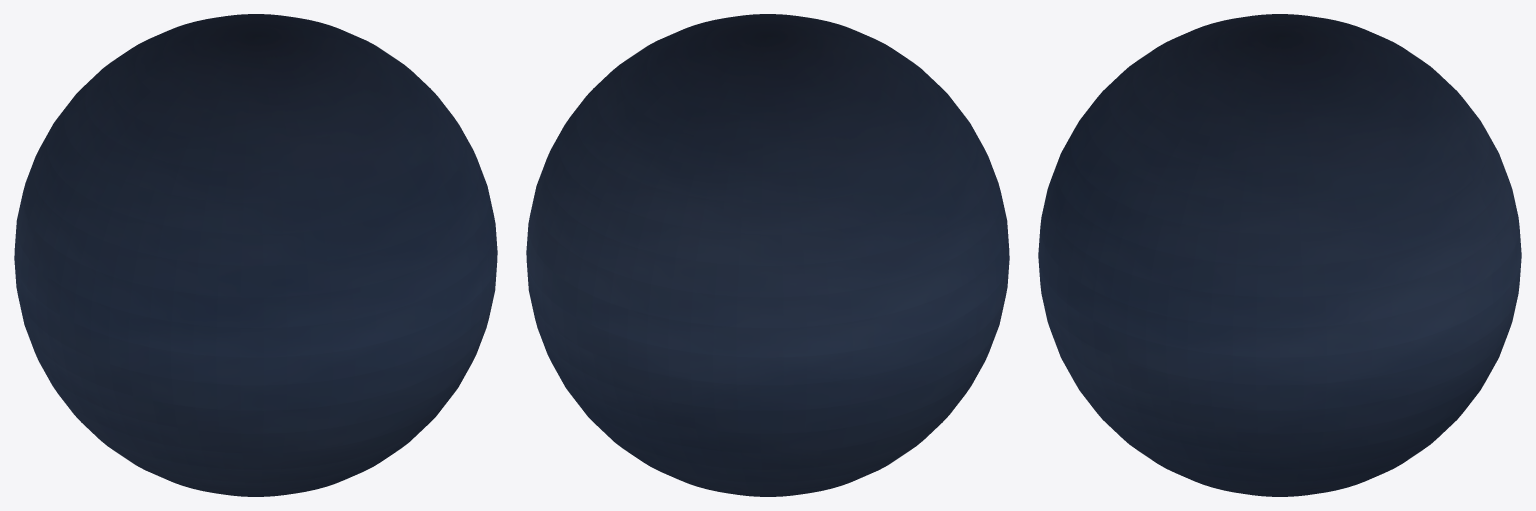
File: field-standard.glb
3 views of the same model, side by side, from view 1: azimuth 30°, elevation 25°; view 2: azimuth 150°, elevation 25°; view 3: azimuth 270°, elevation 25° (orthographic).
Visible parts, largest first — view 1: SKY_DOME; view 2: SKY_DOME; view 3: SKY_DOME.
Boxes of the visible parts, x1,y1,x2,y2 form: SKY_DOME: [14, 14, 497, 496]; SKY_DOME: [526, 14, 1009, 496]; SKY_DOME: [1038, 14, 1521, 496].
Size of the model in its own units: 380 by 380 by 380.
Materials: 26 (10 with a texture image).
